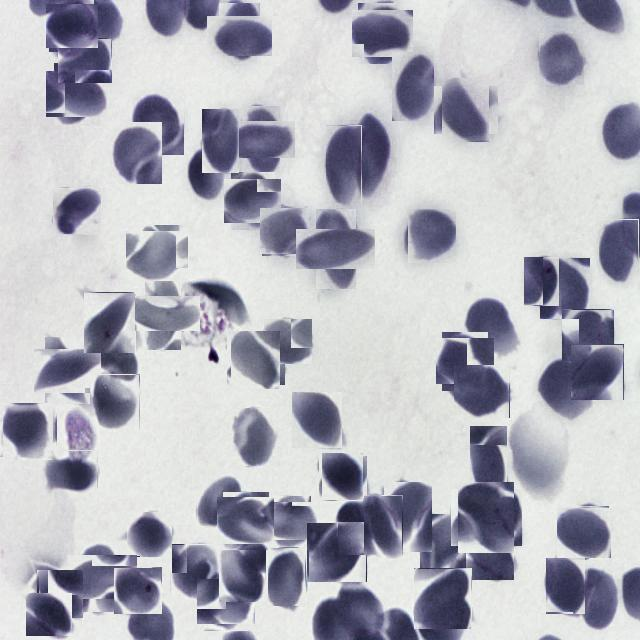red blood cell: (454, 486, 518, 550), (350, 114, 393, 199), (306, 219, 366, 279), (307, 522, 367, 582), (538, 357, 596, 419), (414, 568, 472, 629), (106, 122, 162, 184), (132, 90, 184, 155), (384, 482, 432, 552), (75, 549, 132, 606), (84, 292, 136, 353), (40, 342, 96, 398), (438, 82, 494, 138), (129, 228, 185, 284), (470, 426, 508, 508), (354, 6, 410, 61), (540, 258, 590, 319), (454, 364, 510, 418), (90, 374, 140, 434), (1, 404, 56, 458), (571, 344, 624, 400), (50, 67, 104, 121), (229, 333, 283, 387), (136, 286, 190, 340), (170, 544, 222, 600), (392, 52, 434, 121), (420, 514, 466, 576), (235, 113, 288, 166), (213, 9, 266, 62), (326, 125, 362, 203), (292, 392, 342, 448), (219, 543, 266, 602), (439, 335, 491, 388), (578, 565, 618, 633), (558, 507, 610, 559), (406, 210, 458, 262), (200, 576, 252, 628), (220, 495, 272, 547), (562, 309, 614, 361), (599, 219, 639, 285), (231, 408, 276, 466), (466, 526, 514, 580), (228, 176, 278, 227), (46, 450, 98, 498), (538, 32, 584, 85), (58, 38, 112, 83), (465, 301, 515, 349), (202, 109, 239, 173), (364, 495, 403, 555), (52, 187, 100, 235), (261, 207, 309, 255), (48, 2, 96, 50), (37, 569, 84, 618), (546, 557, 586, 614), (114, 567, 162, 614), (264, 318, 313, 364), (268, 547, 306, 606), (197, 476, 240, 527), (126, 512, 172, 558), (320, 454, 365, 500), (338, 501, 376, 555), (270, 499, 314, 544), (187, 147, 223, 202), (26, 593, 72, 636), (524, 256, 560, 306)
